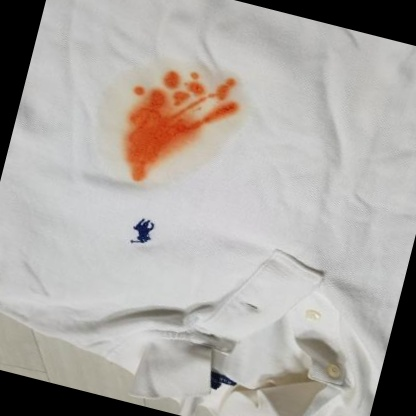kimchi: (85, 49, 247, 204), (124, 109, 199, 157), (117, 141, 167, 188), (202, 96, 248, 131), (212, 74, 242, 103), (142, 82, 168, 110), (167, 88, 193, 115), (158, 67, 183, 94), (182, 80, 206, 100), (130, 83, 143, 99), (185, 69, 199, 81)
